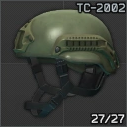MSA ACH TC-2002 MICH Series helmet: (0, 0, 127, 127)
